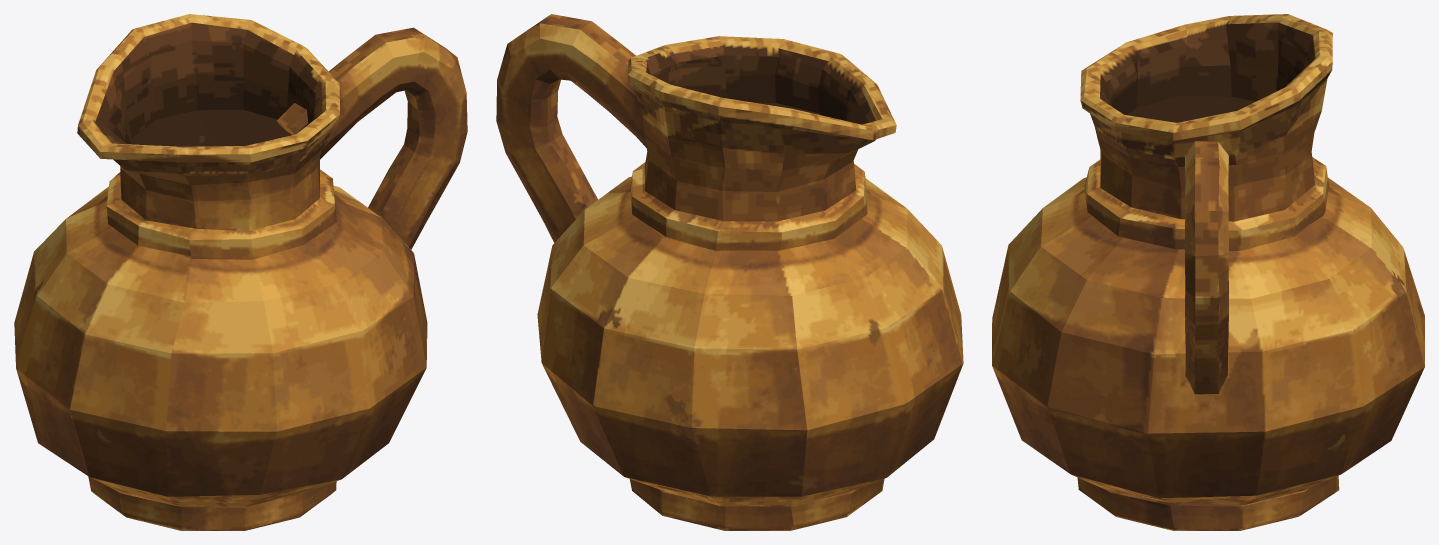
The model's file is CI06_GoldenJug.fbx.
3 renders of one model, left to right at view 1: azimuth 30°, elevation 25°; view 2: azimuth 150°, elevation 25°; view 3: azimuth 270°, elevation 25°, orthographic. The views are drawn at different scales.
Visible parts, largest first — view 1: CI06_GoldenJug; view 2: CI06_GoldenJug; view 3: CI06_GoldenJug.
Boxes of the visible parts, x1,y1,x2,y2 form: CI06_GoldenJug: [14, 14, 467, 530]; CI06_GoldenJug: [496, 14, 963, 530]; CI06_GoldenJug: [992, 14, 1424, 530].
Size of the model in its own units: 0.2096 by 0.1983 by 0.1773.
1 material, 1 textured.
